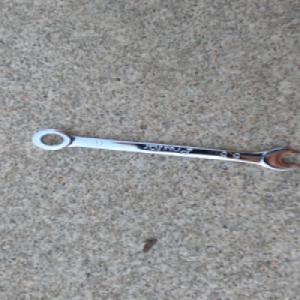Wrench: (29, 127, 300, 171)
